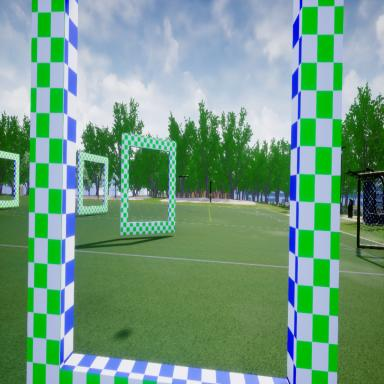gate: (118, 128, 178, 243), (77, 148, 110, 218)
